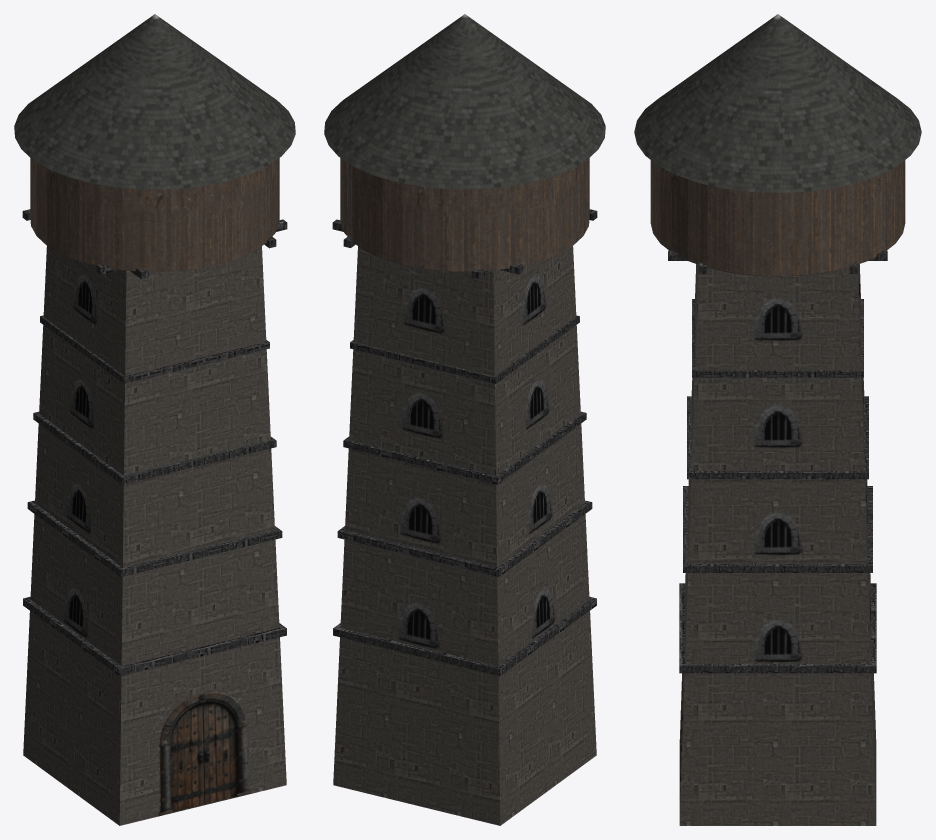
File: stolp.fbx
3 renders of one model, left to right at view 1: azimuth 30°, elevation 25°; view 2: azimuth 150°, elevation 25°; view 3: azimuth 270°, elevation 25°, orthographic.
Visible parts, largest first — view 1: Cube.008; view 2: Cube.008; view 3: Cube.008.
Boxes of the visible parts, box(x1,y1,x2,y2) form: Cube.008: box(14, 14, 295, 825); Cube.008: box(324, 14, 605, 825); Cube.008: box(634, 14, 921, 825).
Size of the model in its own units: 2910 by 8603 by 2910.
1 material, 1 textured.
